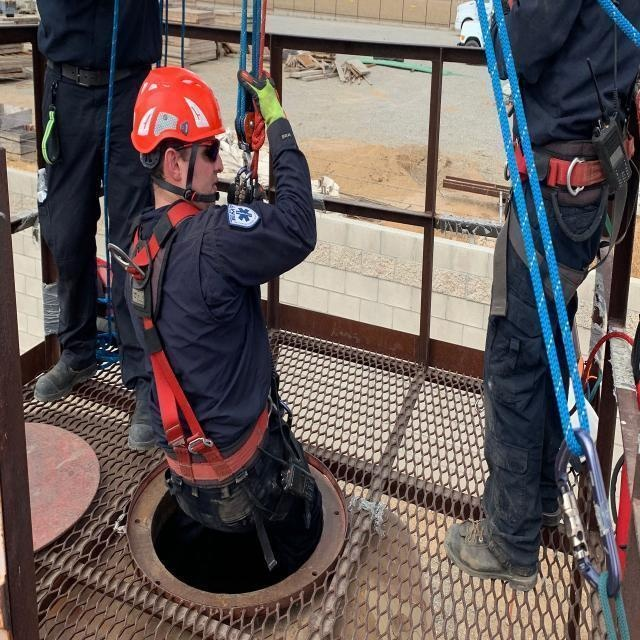Arnes_seguridad: (118, 195, 281, 487)
